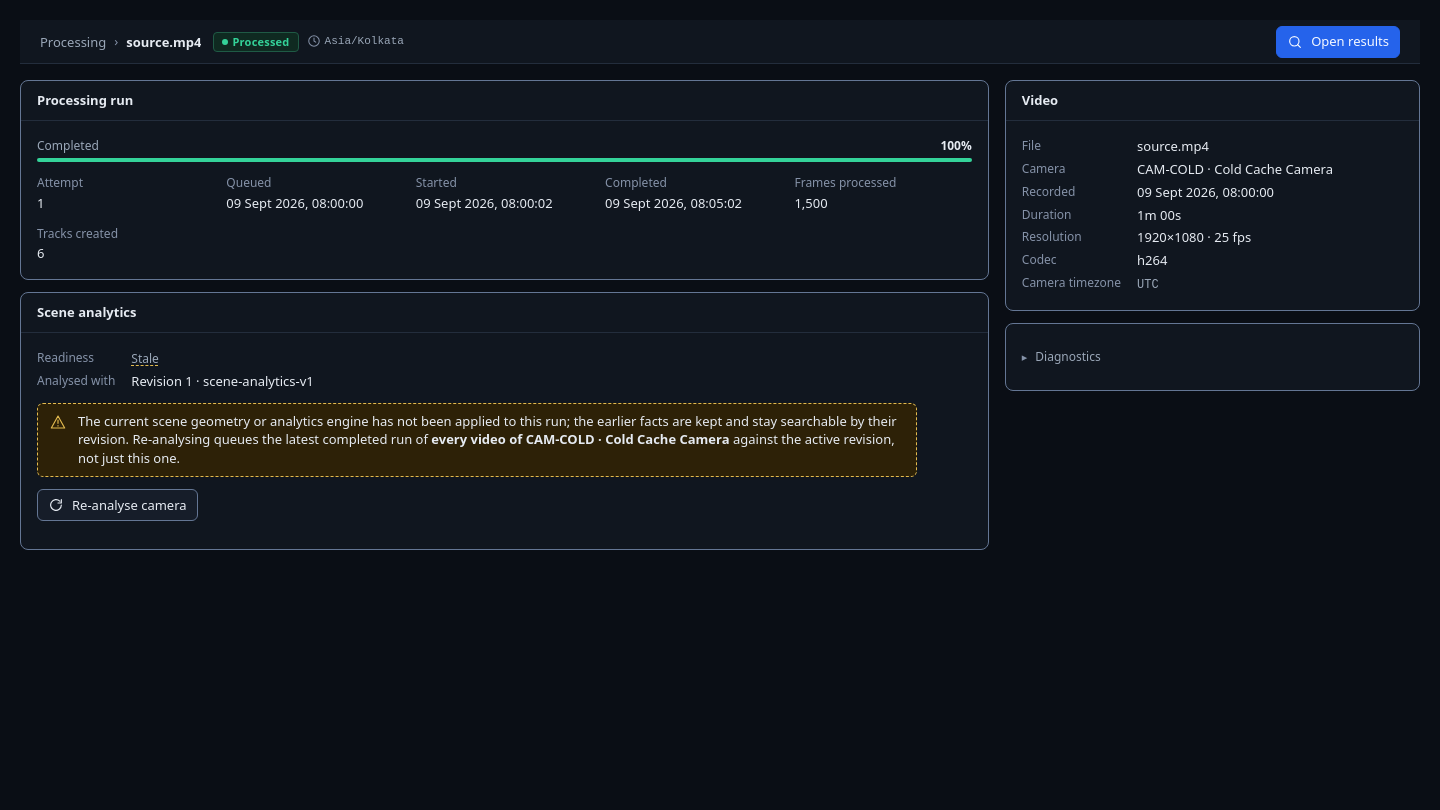
Test: ProcessingPage › scene analytics readiness (Slice 4) › explains a stale run and offers the camera-wide re-analysis with its consequence stated
This screenshot has width=1440, height=810.
Check: the text "Stale" is shown, box [131,350,159,367]
Check: the text "Revision 1 · scene-analytics-v1" is shown, box [131,372,314,390]
Click the button "Re-analyse camera": (117, 505) [37,489,198,521]
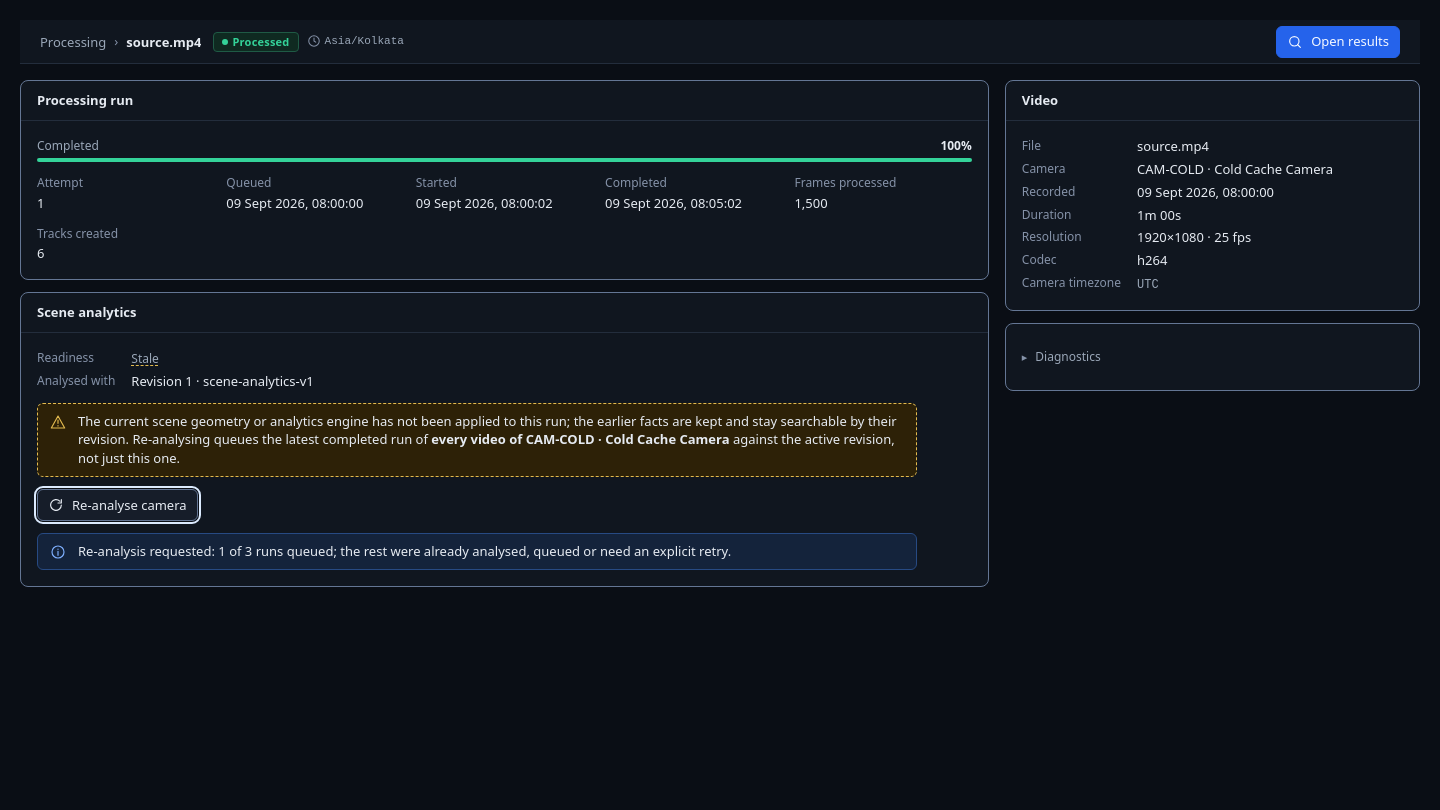
Check: the text "1 of 3 runs queued" is shown, box [78,542,731,560]
